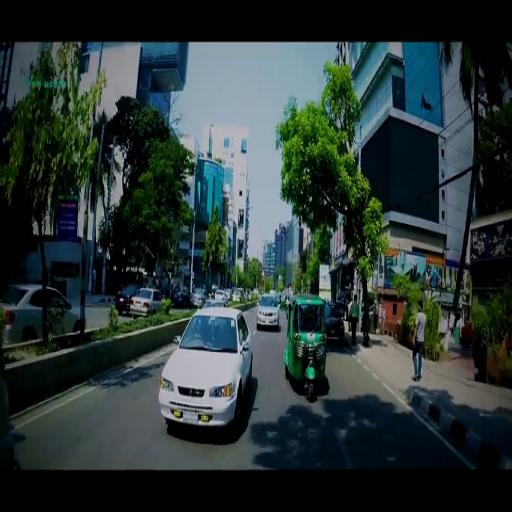car: (159, 308, 253, 427), (1, 281, 88, 336), (130, 288, 168, 315), (324, 302, 345, 342), (256, 296, 281, 328), (115, 285, 133, 310), (191, 288, 208, 306), (214, 289, 227, 301)
three wheelers (CNG): (284, 294, 328, 400)
